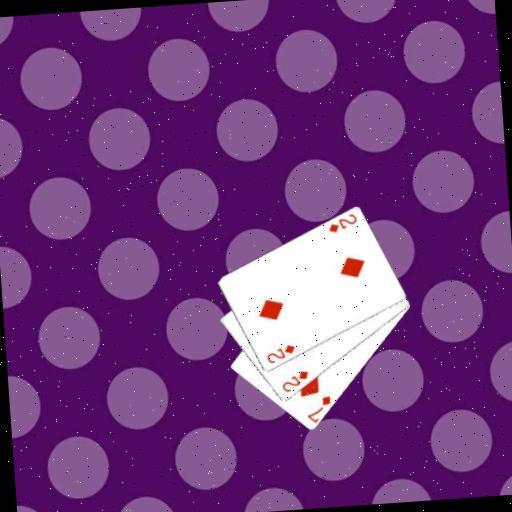2D: (278, 367, 312, 395), (325, 211, 360, 236), (263, 341, 297, 366)
7D: (303, 393, 334, 425)
